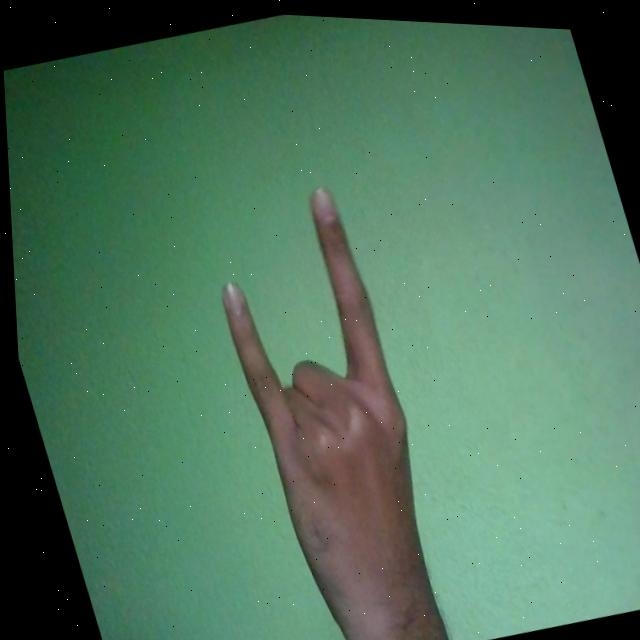Rock On: (189, 172, 463, 640)
